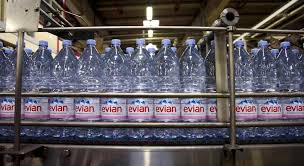evian: (125, 38, 154, 139), (154, 37, 182, 138), (100, 38, 126, 138), (182, 37, 206, 138)
